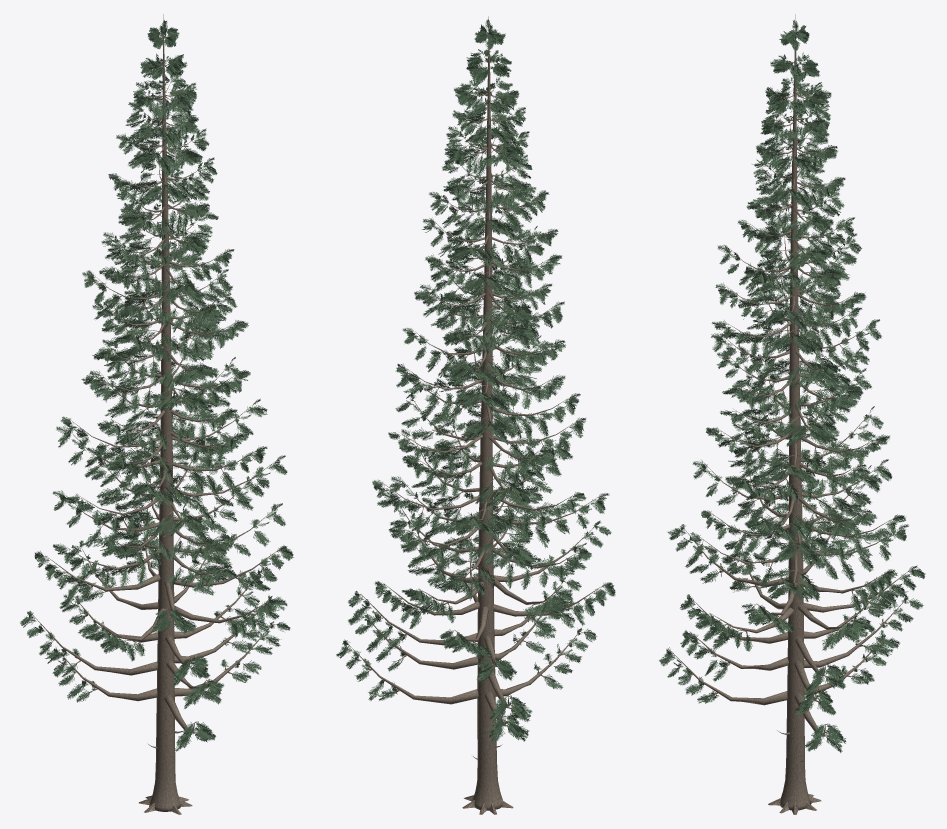
File: SS_Defect_CoarseBranch_PostMature_01_LOD0.fbx
3 views of the same model, side by side, from view 1: azimuth 30°, elevation 25°; view 2: azimuth 150°, elevation 25°; view 3: azimuth 270°, elevation 25° (orthographic).
Visible parts, largest first — view 1: SS_Defect_CoarseBranch_PostMature_01_LOD0_Foliage, SS_Defect_CoarseBranch_PostMature_01_LOD0_Branches, SS_Defect_CoarseBranch_PostMature_01_LOD0_Trunk; view 2: SS_Defect_CoarseBranch_PostMature_01_LOD0_Foliage, SS_Defect_CoarseBranch_PostMature_01_LOD0_Branches, SS_Defect_CoarseBranch_PostMature_01_LOD0_Trunk; view 3: SS_Defect_CoarseBranch_PostMature_01_LOD0_Foliage, SS_Defect_CoarseBranch_PostMature_01_LOD0_Branches, SS_Defect_CoarseBranch_PostMature_01_LOD0_Trunk.
Part boxes in pixels (<box>): SS_Defect_CoarseBranch_PostMature_01_LOD0_Foliage: <box>20,20,293,751</box>; SS_Defect_CoarseBranch_PostMature_01_LOD0_Branches: <box>32,36,281,748</box>; SS_Defect_CoarseBranch_PostMature_01_LOD0_Trunk: <box>139,14,192,814</box>; SS_Defect_CoarseBranch_PostMature_01_LOD0_Foliage: <box>336,19,615,742</box>; SS_Defect_CoarseBranch_PostMature_01_LOD0_Branches: <box>348,30,605,759</box>; SS_Defect_CoarseBranch_PostMature_01_LOD0_Trunk: <box>462,16,513,814</box>; SS_Defect_CoarseBranch_PostMature_01_LOD0_Foliage: <box>659,20,925,752</box>; SS_Defect_CoarseBranch_PostMature_01_LOD0_Branches: <box>671,31,912,762</box>; SS_Defect_CoarseBranch_PostMature_01_LOD0_Trunk: <box>768,14,821,814</box>.
Bounding box in the file's own units: 1036 × 3100 × 998.
2 materials, 2 textured.
